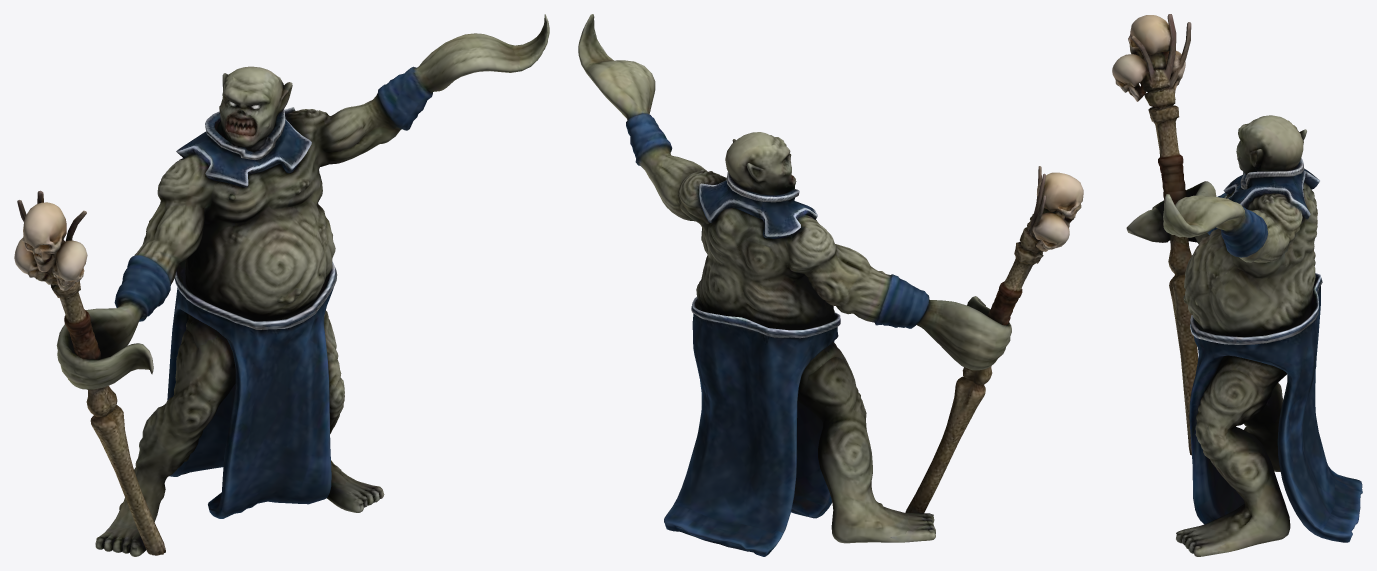
File: MZ4250 - Starspawn Seer.glb
3 views of the same model, side by side, from view 1: azimuth 30°, elevation 25°; view 2: azimuth 150°, elevation 25°; view 3: azimuth 270°, elevation 25° (orthographic). The views are drawn at different scales.
Parts seen in each view (by area): view 1: Star Spawn Seer.001; view 2: Star Spawn Seer.001; view 3: Star Spawn Seer.001.
Boxes of the visible parts, x1,y1,x2,y2 form: Star Spawn Seer.001: (14, 14, 549, 556); Star Spawn Seer.001: (578, 14, 1083, 556); Star Spawn Seer.001: (1112, 14, 1362, 556).
Bounding box in the file's own units: 45.78 × 37.22 × 19.66.
Materials: 1 (1 with a texture image).
